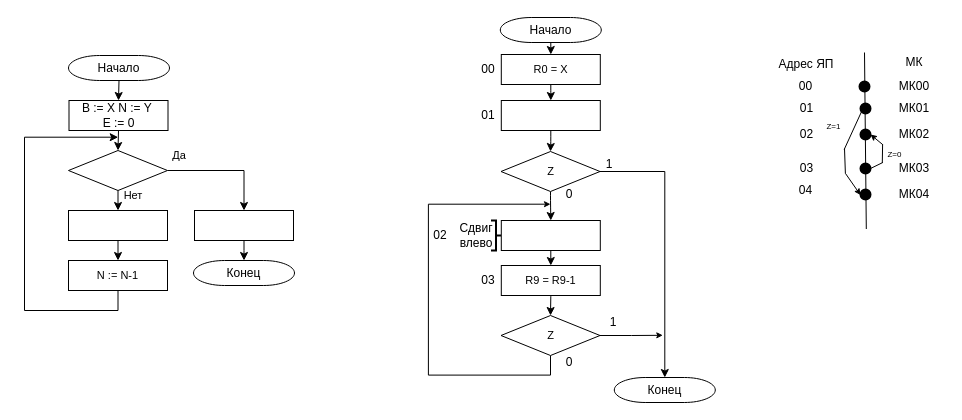
The diagram is 962 pixels wide and 420 high, and some of its shapes have lost their labels. The shapes that lost their labels are listed below. From the top down, each one's centre as x and y in pixels, then its label:
At point (550, 115): "R9 = N".
At point (118, 170): "N = 0".
At point (118, 225): "B := 2B".
At point (244, 225): "E := 1".
At point (550, 235): "R0 = 2R0".
